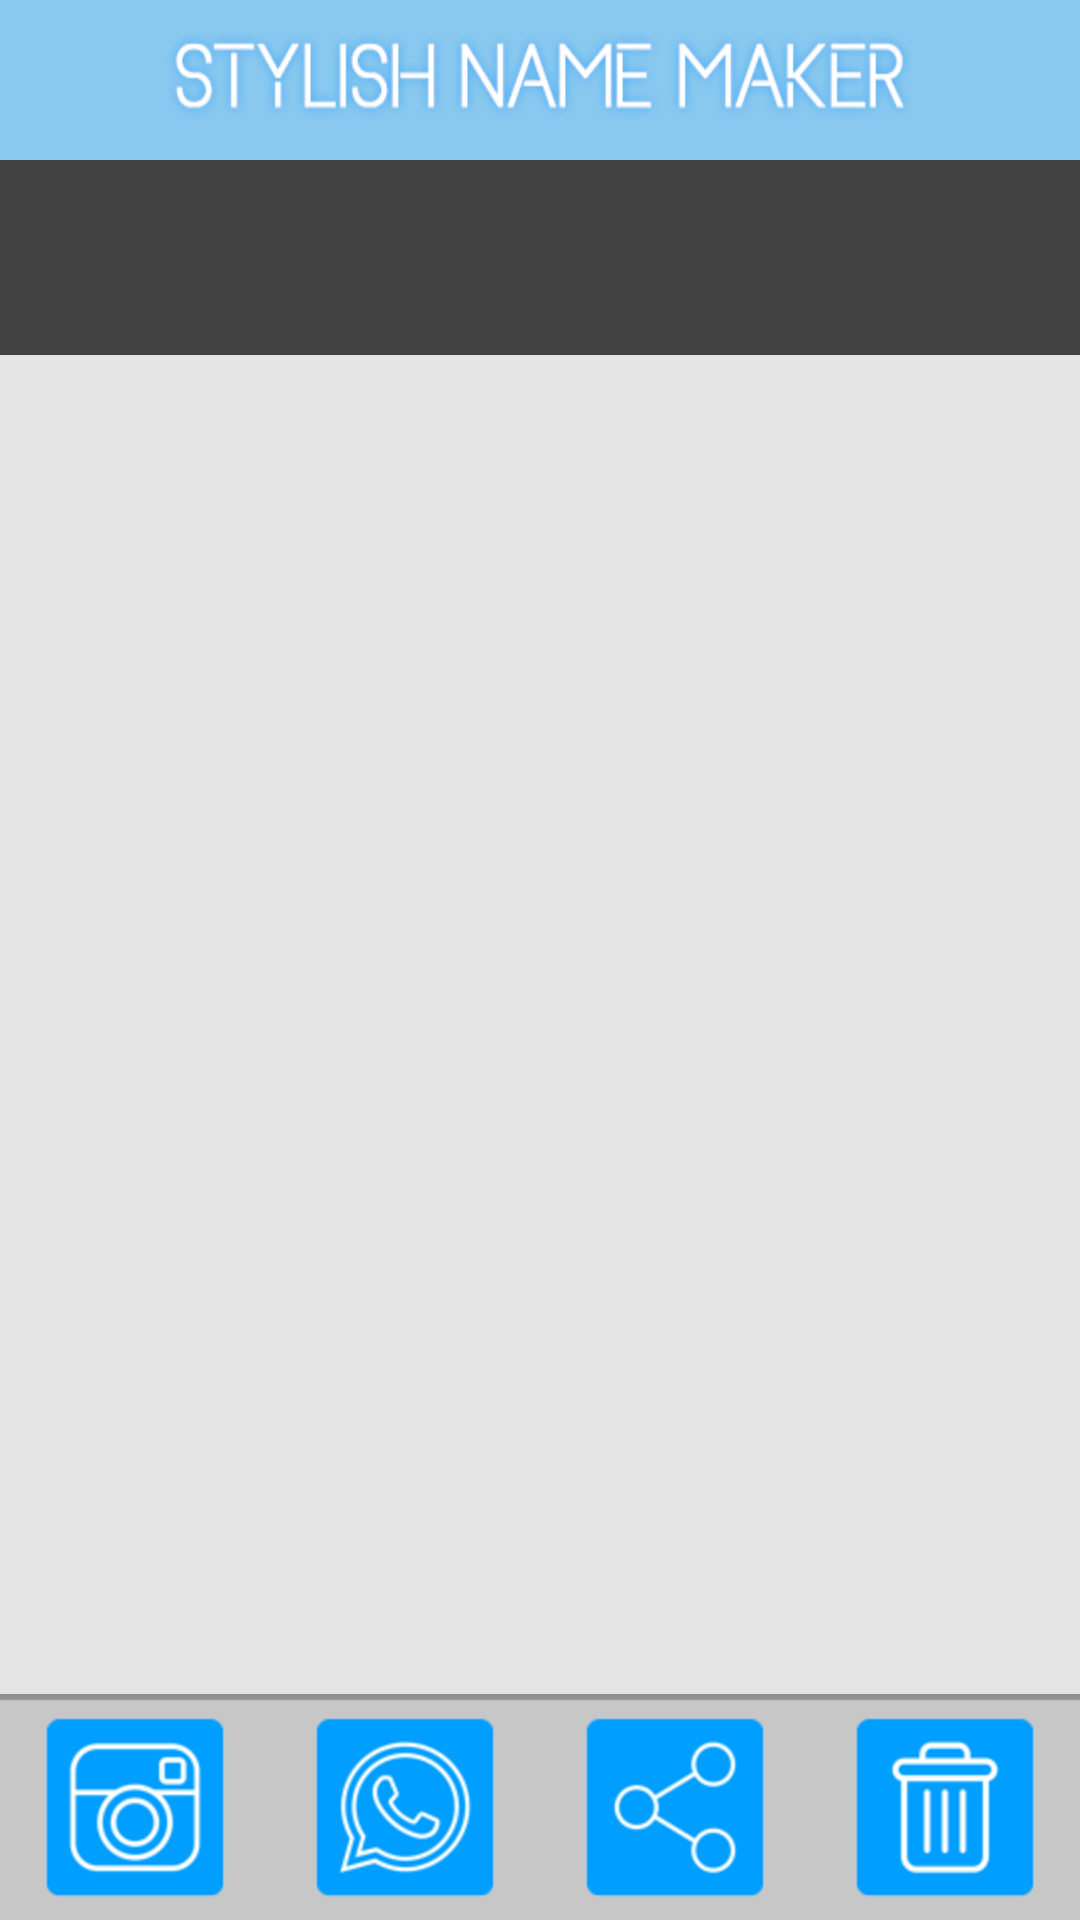

Screen size 1080x1920. Icon name, then its center in pixels as point (x, y):
delete: point (945, 1807)
sharebtn: point (675, 1807)
